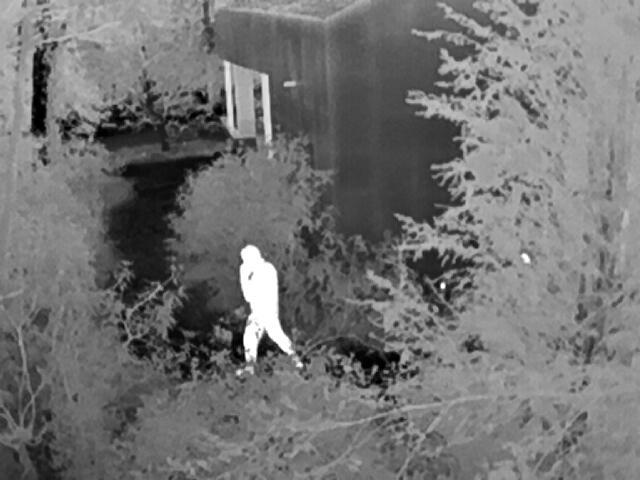person: (233, 244, 308, 381)
